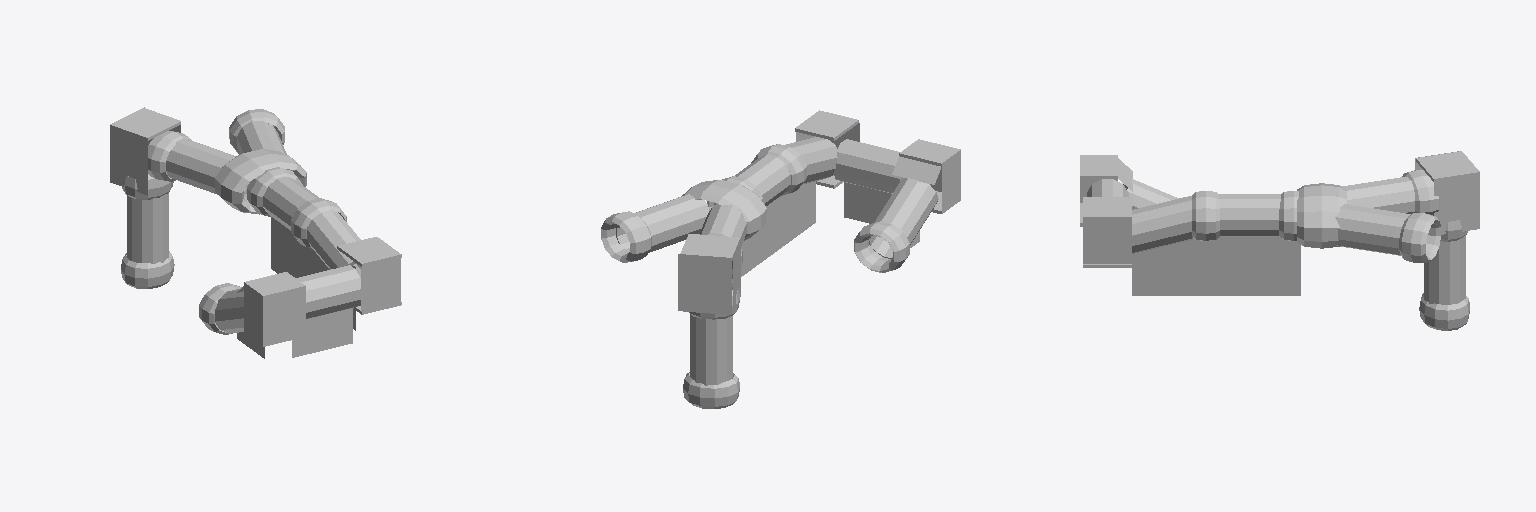
The model's file is kgymmap.obj.
The picture shows the model from 3 angles: view 1: azimuth 30°, elevation 25°; view 2: azimuth 150°, elevation 25°; view 3: azimuth 270°, elevation 25°; orthographic projection.
Visible parts, largest first — view 1: plane, t5, cube, joint5, t2, t6, t3, joint6, t4, joint7, t1, joint3 (+2 smaller); view 2: plane, t5, cube, t1, t2, joint6, joint5, enterence, t4, t3, joint7, t6 (+1 smaller); view 3: plane, t5, joint5, cube, t3, t4, joint6, t6, joint3, joint7, joint4, t1 (+1 smaller).
Part boxes in pixels (x1,y1,x2,y2): plane: (110,107,400,358); t5: (127,121,286,263); cube: (110,108,401,346); joint5: (148,131,306,214); t2: (296,265,360,318); t6: (166,138,250,194); t3: (307,210,360,277); joint6: (122,109,284,199); t4: (263,176,318,230); joint7: (121,251,174,288); t1: (215,289,243,333); joint3: (291,198,346,248); plane: (678,123,960,314); t5: (616,194,732,385); cube: (680,110,960,260); t1: (868,178,938,258); t2: (833,139,902,193); joint6: (601,211,739,319); joint5: (682,180,766,278); enterence: (854,221,909,272); t4: (714,154,790,205); t3: (785,137,837,184); joint7: (683,372,739,408); t6: (700,204,746,245); plane: (1080,151,1479,295); t5: (1335,204,1465,304); joint5: (1297,170,1439,248); cube: (1080,151,1479,267); t3: (1132,196,1193,253); t4: (1219,194,1280,236); joint6: (1399,213,1467,262); t6: (1342,177,1414,213); joint3: (1192,191,1219,240); joint7: (1419,293,1469,330); joint4: (1279,191,1298,240); t1: (1123,179,1178,209).
Bounding box in the file's own units: 3.94 × 3.07 × 7.13.